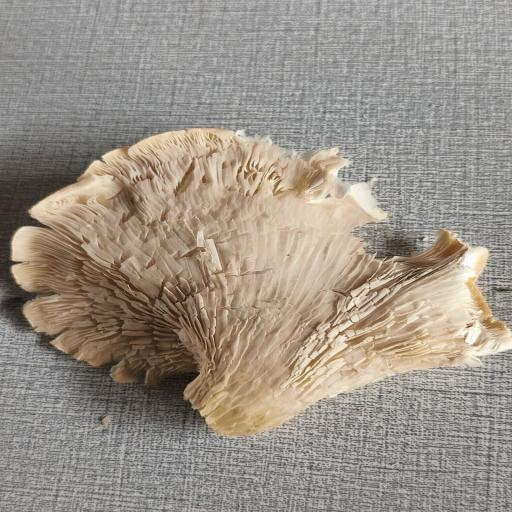White Oyster Mushroom: (0, 123, 512, 443)
